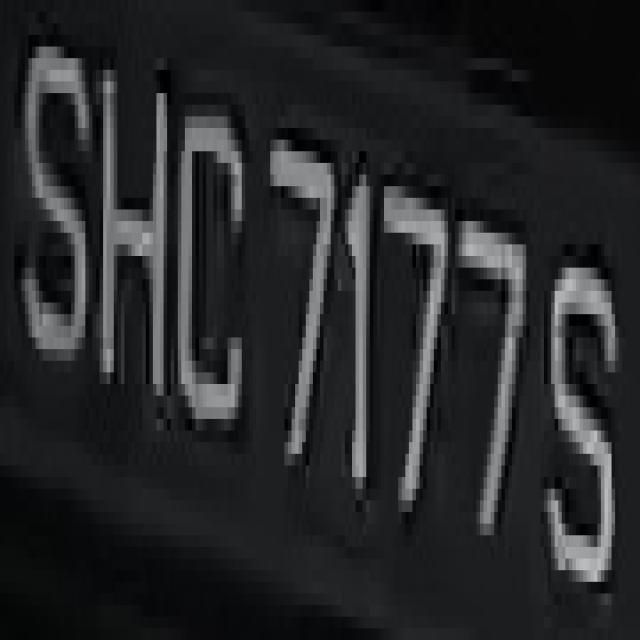1: (338, 163, 380, 547)
7: (374, 116, 452, 547), (266, 93, 338, 524), (459, 175, 537, 570)
C: (178, 93, 256, 524)
H: (92, 35, 170, 430)
S: (540, 198, 622, 628), (21, 35, 96, 384)
